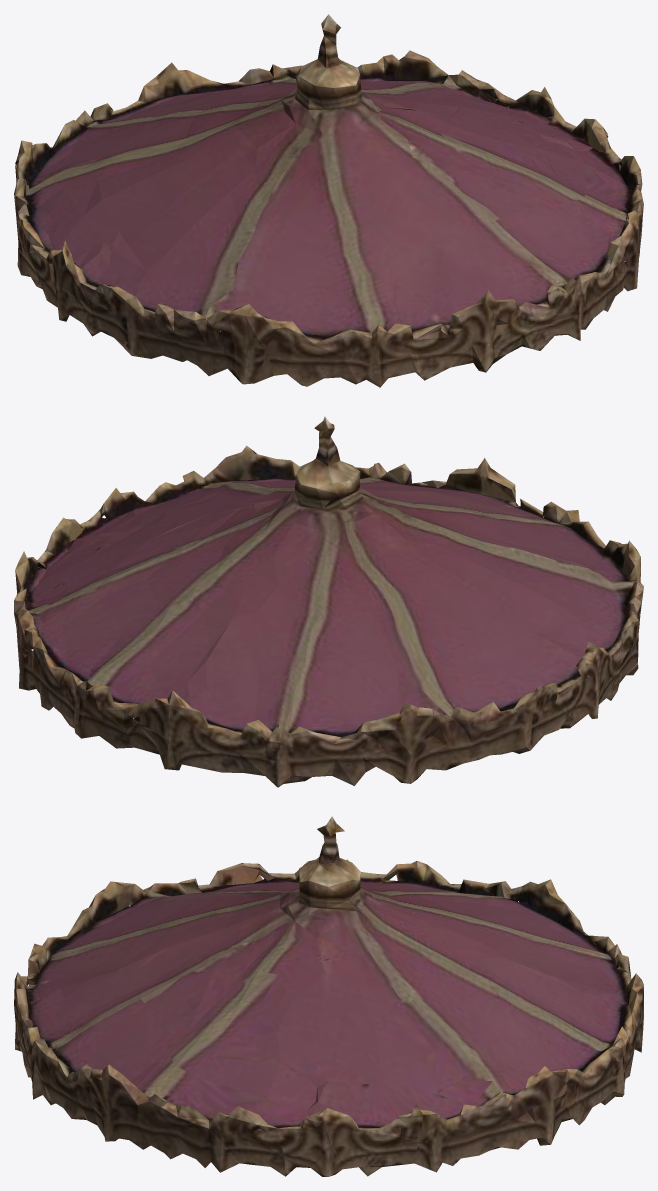
File: park_carousel_roof_1117.glb
3 views of the same model, one above another, from view 1: azimuth 30°, elevation 25°; view 2: azimuth 150°, elevation 25°; view 3: azimuth 270°, elevation 25° (orthographic).
Parts seen in each view (by area): view 1: world; view 2: world; view 3: world.
Part boxes in pixels (x1=…): world: x1=14, y1=14, x2=643, y2=387; world: x1=14, y1=416, x2=643, y2=787; world: x1=14, y1=816, x2=643, y2=1176.
Bounding box in the file's own units: 2.16 × 1 × 2.21.
1 material, 1 textured.
